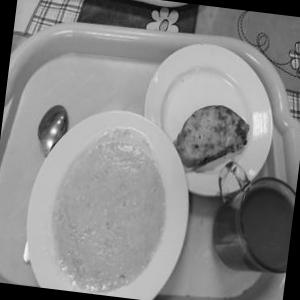cheese_sandwich: (163, 91, 258, 180)
coffee: (205, 153, 296, 290)
porridge: (28, 123, 187, 300)
